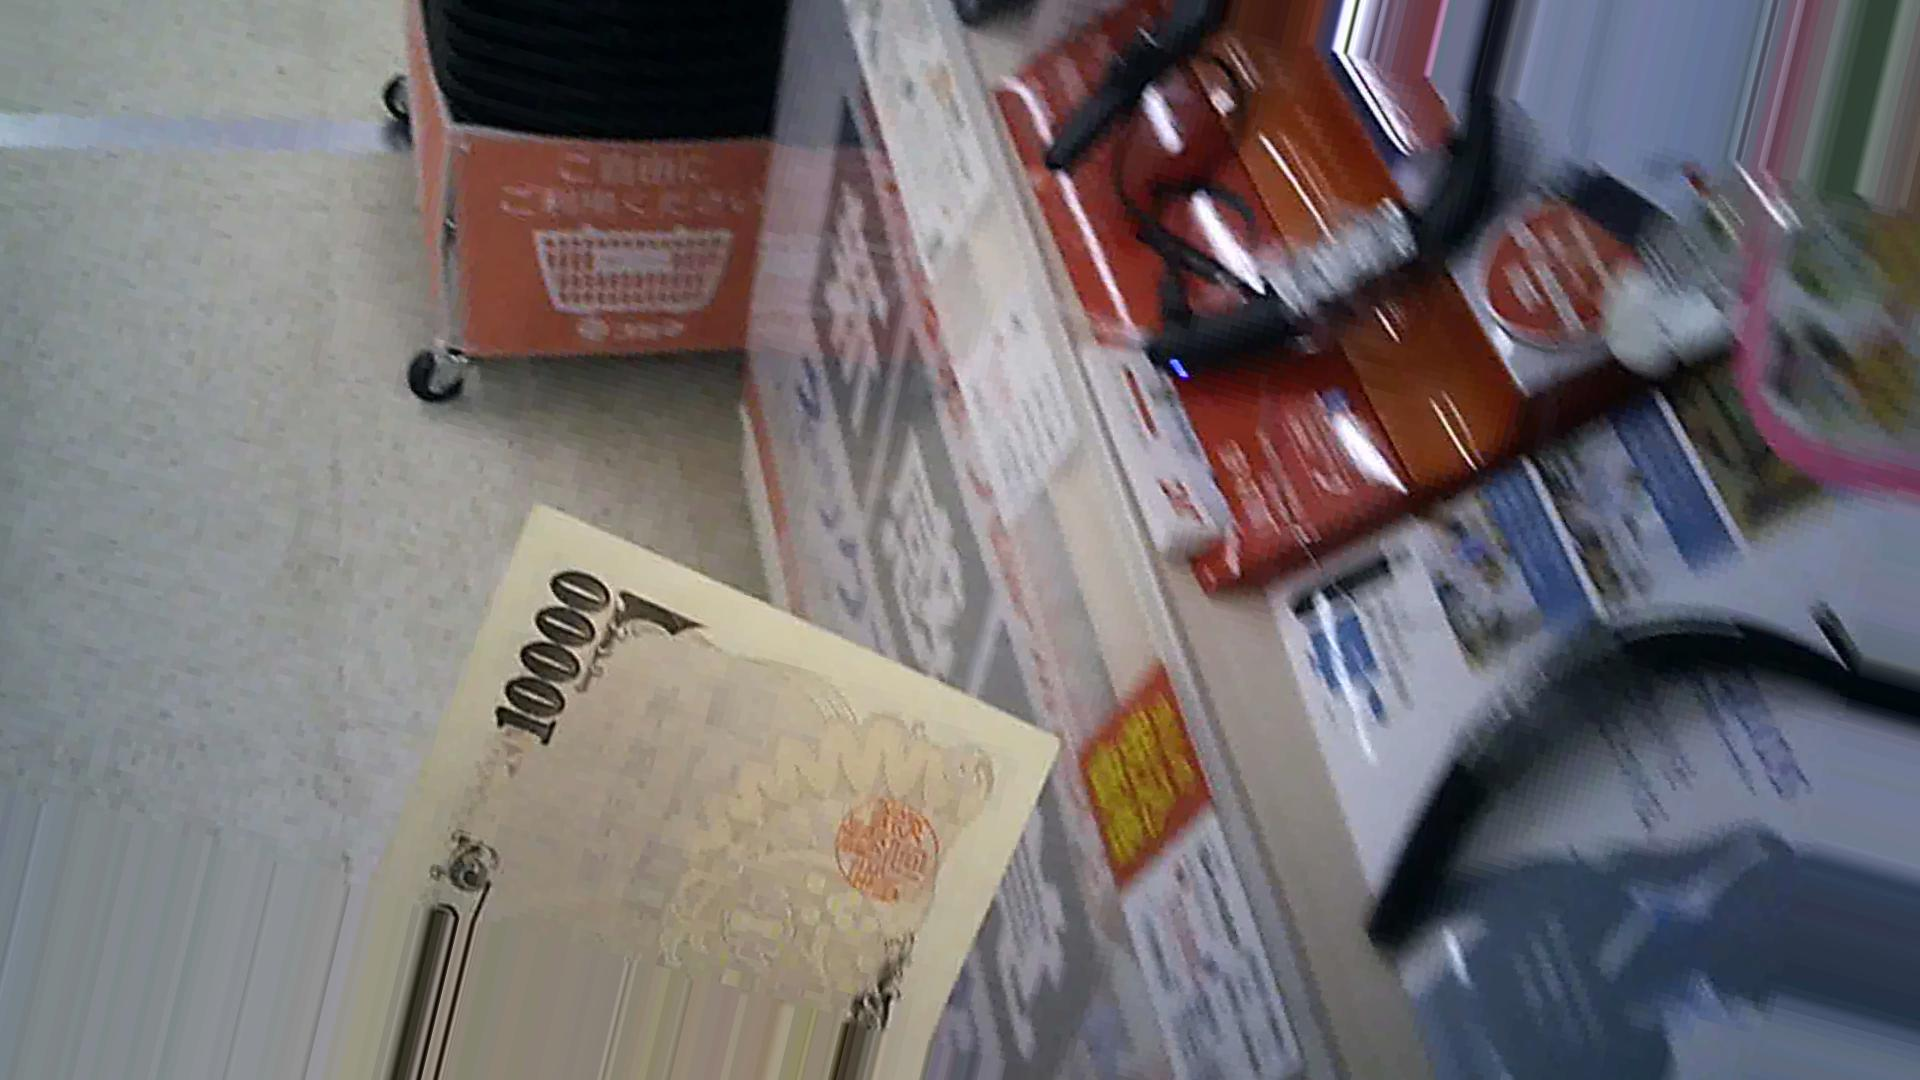10,000 Yen: (361, 510, 1036, 1026)
